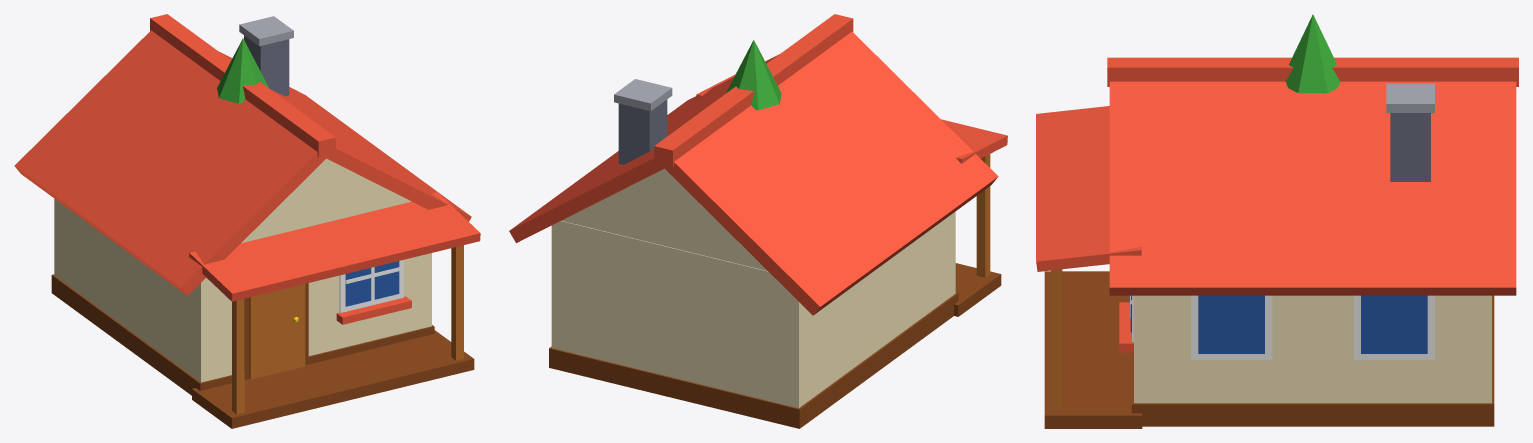
File: models.glb
The picture shows the model from 3 angles, left to right: view 1: azimuth 30°, elevation 25°; view 2: azimuth 150°, elevation 25°; view 3: azimuth 270°, elevation 25°; orthographic projection. The views are drawn at different scales.
Visible parts, largest first — view 1: cabin, pine; view 2: cabin, pine; view 3: cabin, pine.
Part boxes in pixels (box(x1,y1,x2,y2)): cabin: box(14, 14, 480, 428); pine: box(217, 38, 268, 103); cabin: box(509, 14, 1007, 428); pine: box(726, 40, 781, 110); cabin: box(1036, 57, 1518, 428); pine: box(1285, 14, 1340, 93).
Bounding box in the file's own units: 5.04 × 4.68 × 5.93.
